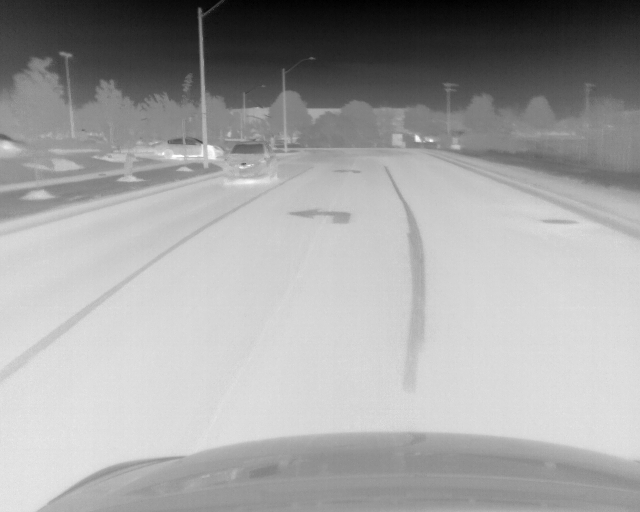car: (223, 141, 275, 183), (153, 135, 222, 161)
